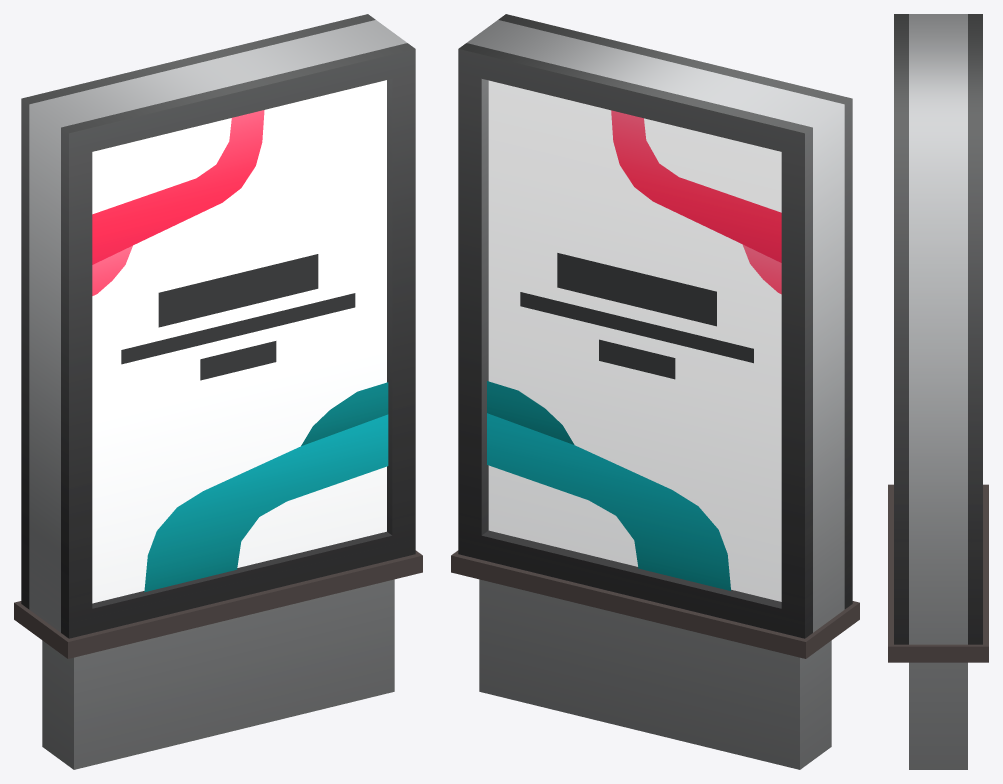
File: city2-billboard-01.glb
The picture shows the model from 3 angles, left to right: view 1: azimuth 30°, elevation 25°; view 2: azimuth 150°, elevation 25°; view 3: azimuth 270°, elevation 25°; orthographic projection. The views are drawn at different scales.
Parts seen in each view (by area): view 1: Billboard_01; view 2: Billboard_01; view 3: Billboard_01.
Boxes of the visible parts, x1,y1,x2,y2 form: Billboard_01: [14, 14, 422, 769]; Billboard_01: [451, 14, 859, 769]; Billboard_01: [888, 14, 988, 769].
Size of the model in its own units: 1.19 by 2.06 by 0.3123.
1 material, 1 textured.
